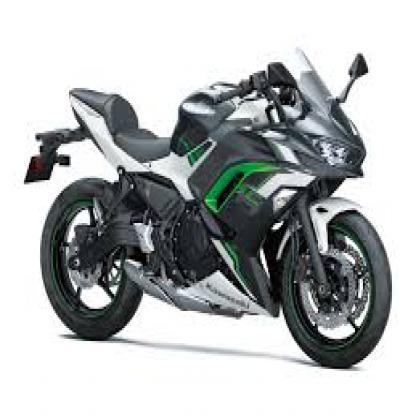Motorcycle: (24, 36, 399, 374)
